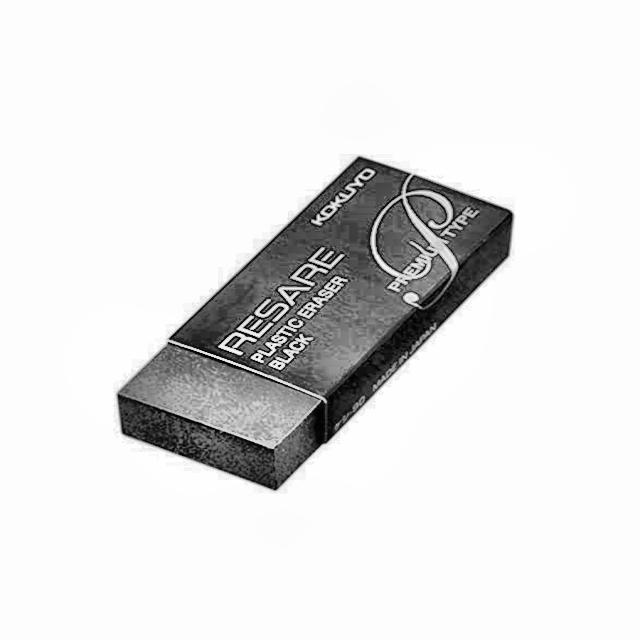eraser: (111, 152, 522, 498)
